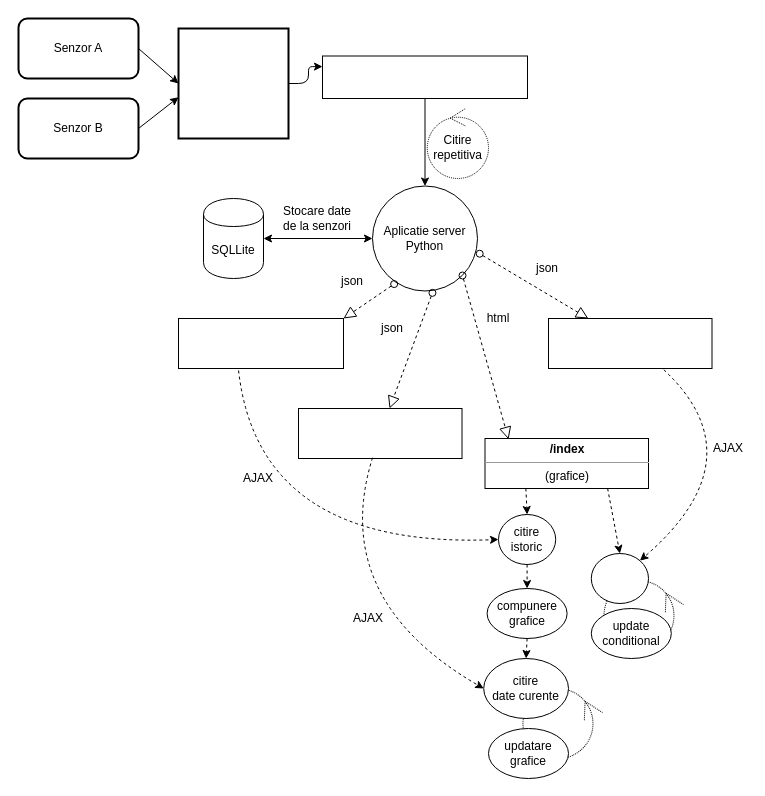
Some shapes in this 765 by 796 pixel diagram are drawn without their labels. Each missing label, with the box of its shape:
/dataset (set de date recomandari ): (548, 318, 712, 368)
/history (afisare istoric de date): (178, 318, 344, 368)
/sensors (afisare date in timp real ): (298, 408, 462, 458)
citire dataset: (590, 552, 648, 604)
Libraria AdaFruit (driver de citire senzori prin GPIO): (322, 55, 528, 98)
Raspberry PI: (177, 27, 289, 139)
